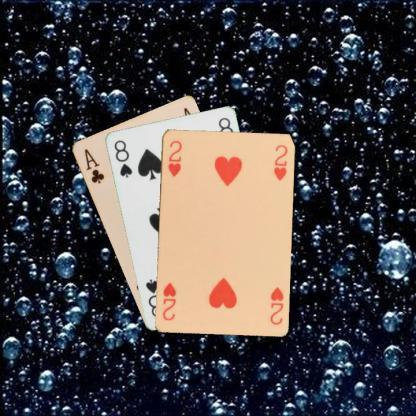2h: (165, 138, 184, 178), (268, 284, 284, 326)
8s: (111, 136, 133, 178)
Ac: (82, 146, 106, 184)
